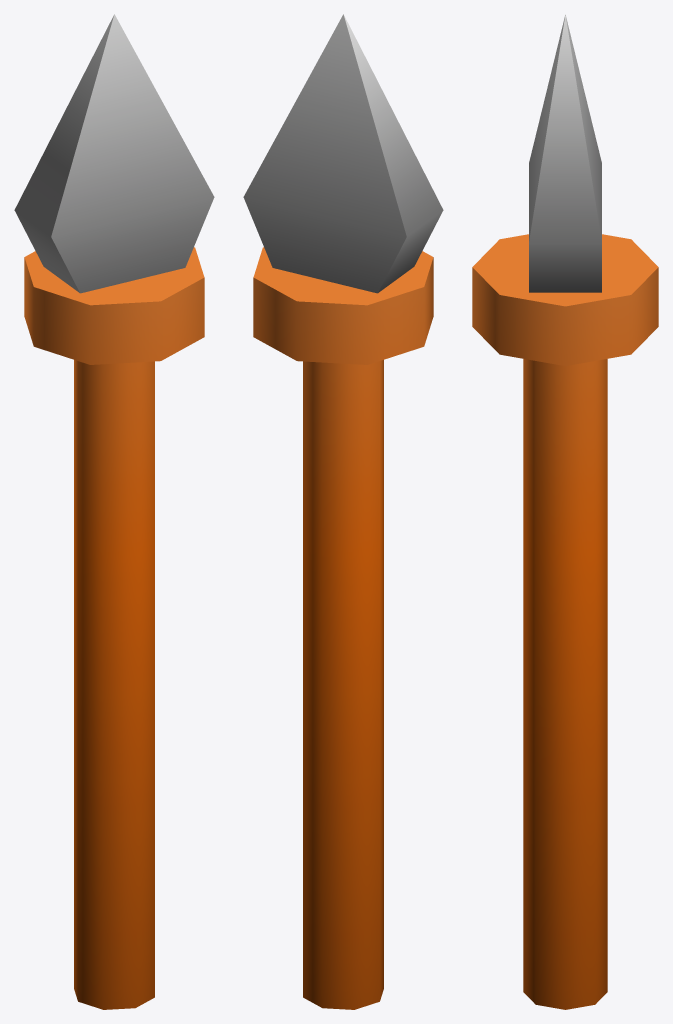
The model's file is Capsule_Weapon_Spear_01.fbx.
The picture shows the model from 3 angles, left to right: view 1: azimuth 30°, elevation 25°; view 2: azimuth 150°, elevation 25°; view 3: azimuth 270°, elevation 25°; orthographic projection.
Visible parts, largest first — view 1: Capsule_Weapon_Spear_01; view 2: Capsule_Weapon_Spear_01; view 3: Capsule_Weapon_Spear_01.
Boxes of the visible parts, box(x1,y1,x2,y2) form: Capsule_Weapon_Spear_01: box(14, 14, 214, 1009); Capsule_Weapon_Spear_01: box(243, 14, 443, 1009); Capsule_Weapon_Spear_01: box(472, 14, 658, 1009).
Bounding box in the file's own units: 34.48 × 197 × 34.06.
